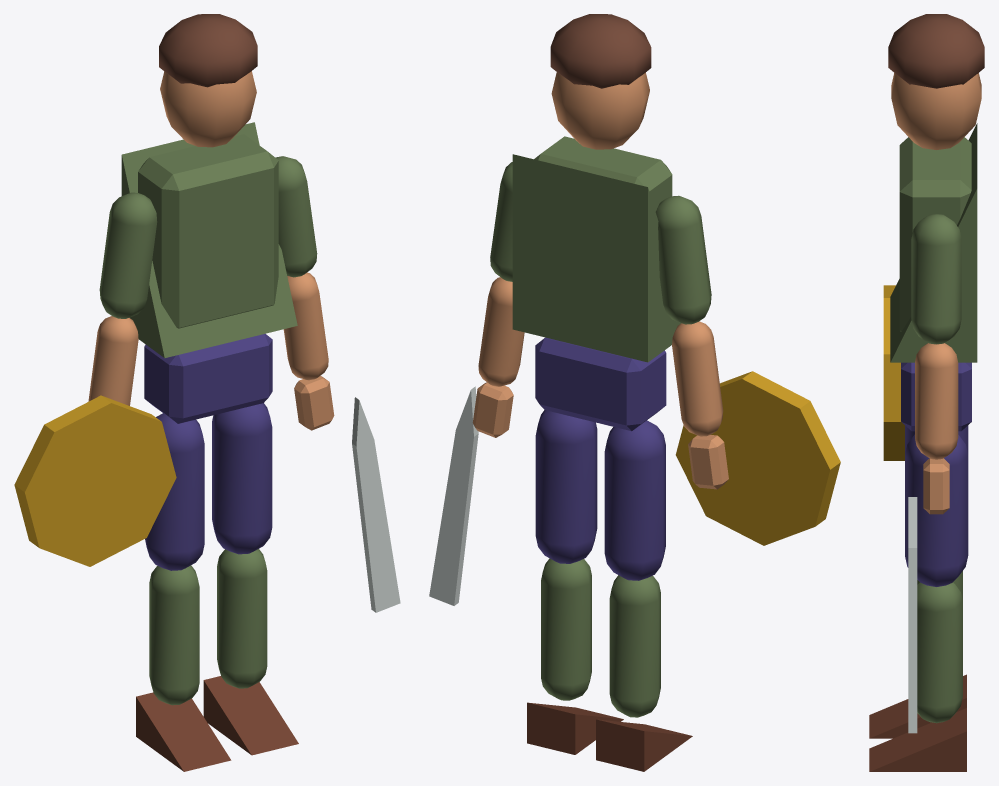
Rendered from adventurer.rustic.glb.
3 renders of one model, left to right at view 1: azimuth 30°, elevation 25°; view 2: azimuth 150°, elevation 25°; view 3: azimuth 270°, elevation 25°, orthographic.
Parts seen in each view (by area): view 1: torso, accessory.off-hand, pelvis, thigh.right, tunic, shin.left, shin.right, thigh.left, hair, upper-arm.left, accessory.main-hand, head (+6 smaller); view 2: tunic, accessory.off-hand, pelvis, thigh.left, thigh.right, shin.left, shin.right, hair, upper-arm.left, head, accessory.main-hand, forearm.left (+7 smaller); view 3: torso, thigh.right, shin.right, upper-arm.right, hair, tunic, head, forearm.right, foot.right, accessory.off-hand, accessory.main-hand, pelvis (+3 smaller).
Boxes of the visible parts, x1,y1,x2,y2 form: torso: [138, 134, 278, 328]; accessory.off-hand: [14, 395, 176, 566]; pelvis: [144, 333, 272, 423]; thigh.right: [212, 403, 272, 554]; tunic: [121, 122, 297, 357]; shin.left: [149, 565, 199, 705]; shin.right: [217, 549, 267, 688]; thigh.left: [145, 413, 204, 570]; hair: [159, 14, 257, 87]; upper-arm.left: [99, 192, 157, 318]; accessory.main-hand: [352, 397, 400, 612]; head: [160, 71, 256, 147]; tunic: [512, 154, 680, 362]; accessory.off-hand: [675, 371, 840, 545]; pelvis: [535, 337, 666, 431]; thigh.left: [604, 420, 665, 580]; thigh.right: [535, 410, 597, 563]; shin.left: [609, 575, 660, 717]; shin.right: [541, 558, 591, 700]; hair: [550, 14, 651, 88]; upper-arm.left: [655, 195, 711, 324]; head: [551, 72, 649, 149]; accessory.main-hand: [429, 386, 478, 605]; forearm.left: [672, 321, 723, 436]; torso: [899, 137, 971, 331]; thigh.right: [905, 434, 968, 586]; shin.right: [917, 582, 962, 723]; upper-arm.right: [911, 214, 961, 344]; hair: [888, 14, 984, 88]; tunic: [890, 123, 977, 362]; head: [891, 73, 981, 149]; forearm.right: [915, 343, 958, 459]; foot.right: [869, 708, 966, 771]; accessory.off-hand: [883, 285, 904, 460]; accessory.main-hand: [908, 497, 917, 733]; pelvis: [901, 362, 971, 431].
Size of the model in its own units: 1.72 by 3.03 by 0.4376.
